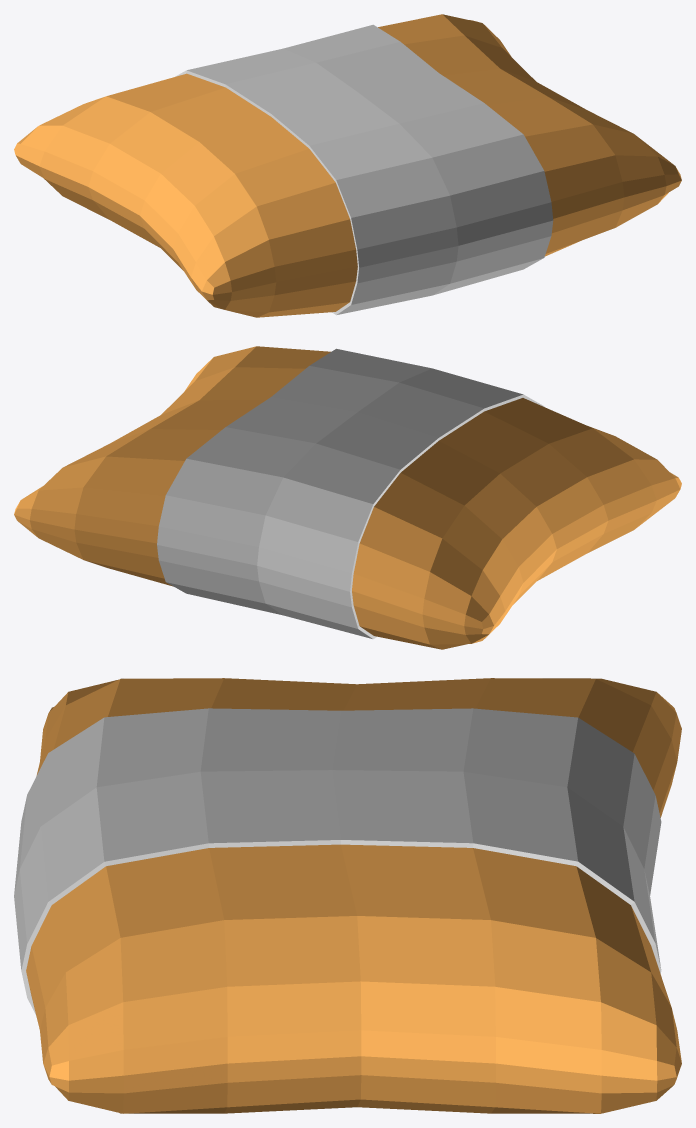
Rendered from Pillow 15.fbx.
The picture shows the model from 3 angles, top to bottom: view 1: azimuth 30°, elevation 25°; view 2: azimuth 150°, elevation 25°; view 3: azimuth 270°, elevation 25°; orthographic projection. The views are drawn at different scales.
Visible parts, largest first — view 1: Node 0; view 2: Node 0; view 3: Node 0.
Part boxes in pixels (x1,y1,x2,y2): Node 0: (14, 14, 681, 317); Node 0: (14, 346, 681, 649); Node 0: (14, 678, 681, 1113).
Bounding box in the file's own units: 0.5766 × 0.2393 × 0.7532.
